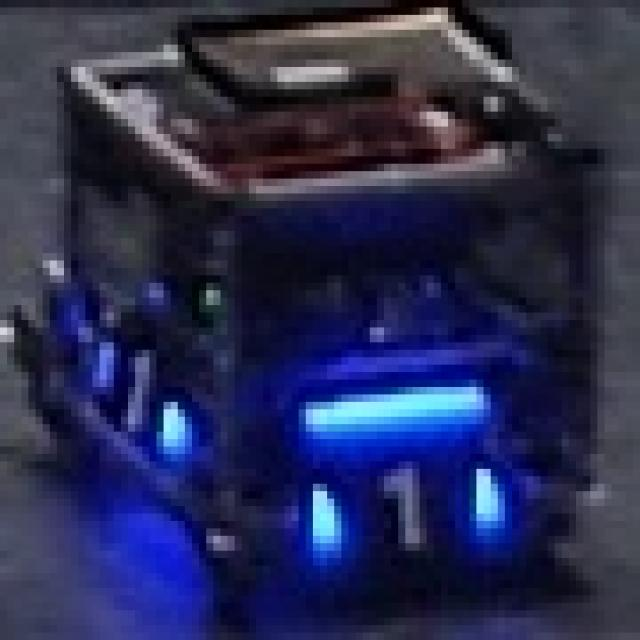B1: (306, 454, 498, 558), (86, 350, 206, 454)
